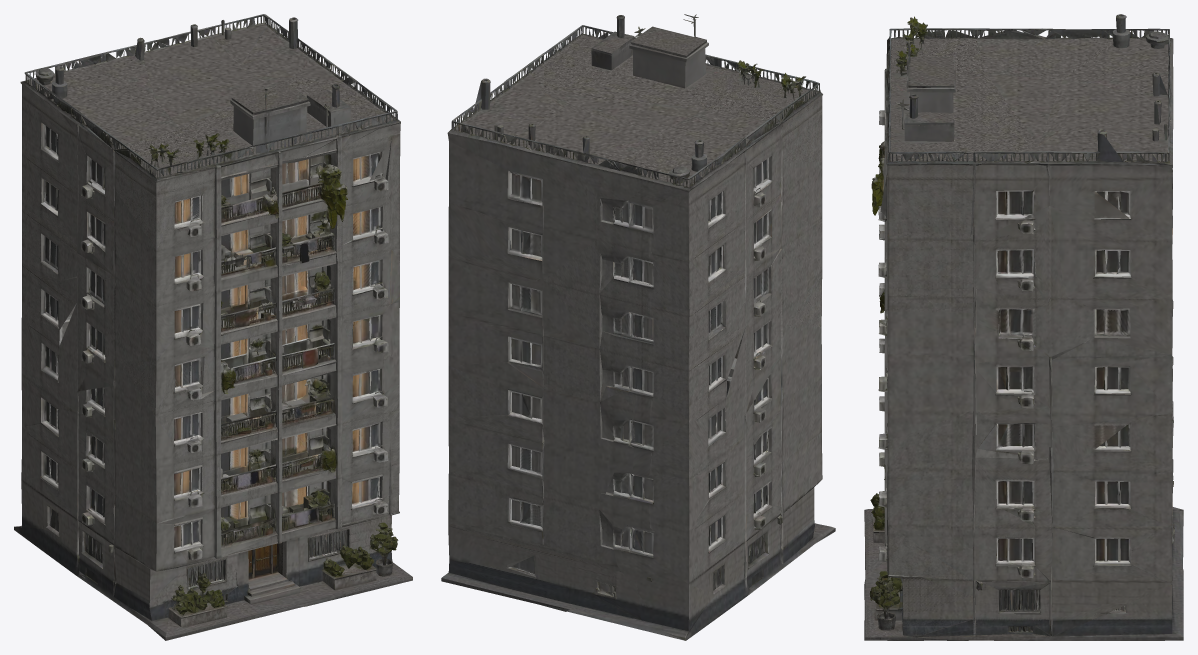
3 views of the same model, side by side, from view 1: azimuth 30°, elevation 25°; view 2: azimuth 150°, elevation 25°; view 3: azimuth 270°, elevation 25° (orthographic). The views are drawn at different scales.
Parts seen in each view (by area): view 1: Mesh_0; view 2: Mesh_0; view 3: Mesh_0.
Part boxes in pixels (left/top/right/bottom): Mesh_0: left=14, top=14, right=412, bottom=640; Mesh_0: left=441, top=14, right=835, bottom=640; Mesh_0: left=864, top=14, right=1183, bottom=640.
Bounding box in the file's own units: 1 × 1.9 × 1.03.
Materials: 1 (1 with a texture image).
